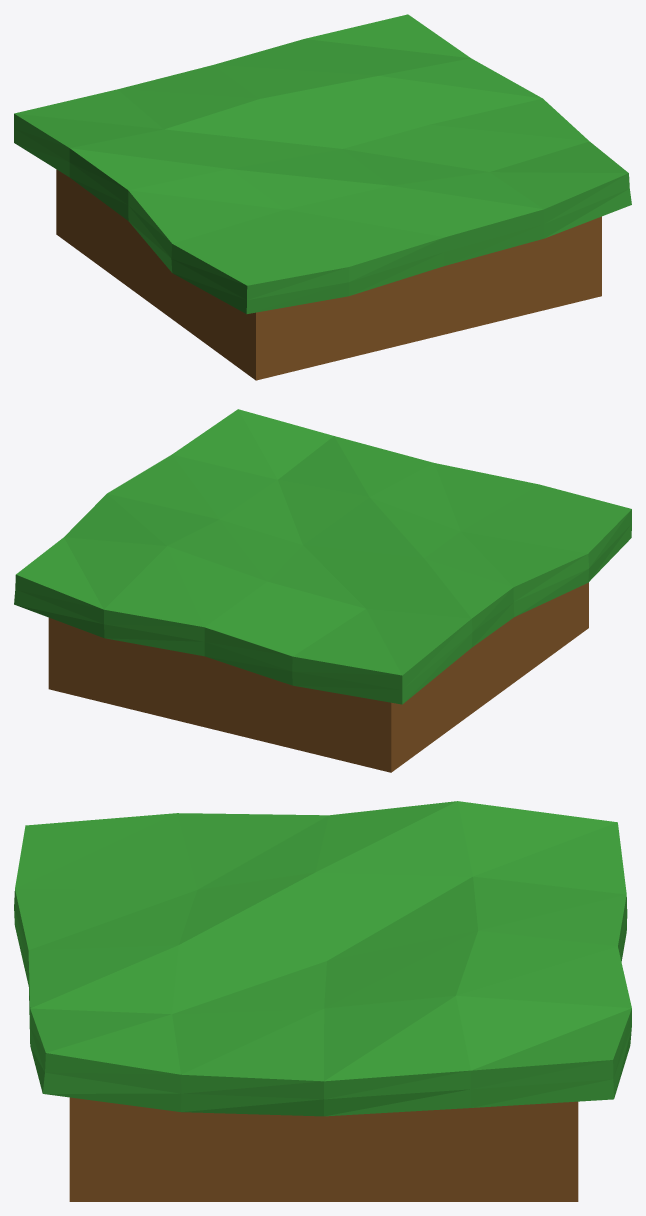
File: floor.glb
3 views of the same model, one above another, from view 1: azimuth 30°, elevation 25°; view 2: azimuth 150°, elevation 25°; view 3: azimuth 270°, elevation 25° (orthographic). The views are drawn at different scales.
Visible parts, largest first — view 1: Cube; view 2: Cube; view 3: Cube.
Part boxes in pixels (x1,y1,x2,y2): Cube: (14,14,631,380); Cube: (14,409,631,772); Cube: (14,801,631,1201).
Size of the model in its own units: 7.44 by 2.14 by 7.29.
